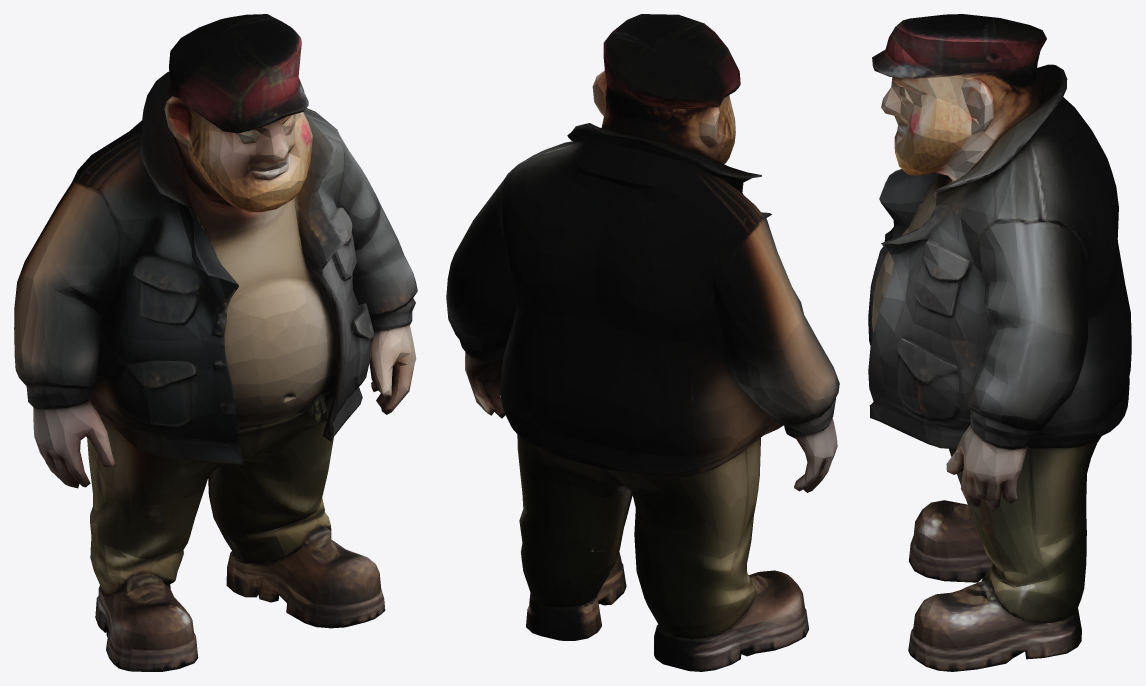
The model's file is rab-form.glb.
The picture shows the model from 3 angles, left to right: view 1: azimuth 30°, elevation 25°; view 2: azimuth 150°, elevation 25°; view 3: azimuth 270°, elevation 25°; orthographic projection. The views are drawn at different scales.
Parts seen in each view (by area): view 1: world; view 2: world; view 3: world.
Part boxes in pixels (bbox=[...]): world: bbox=[14, 14, 417, 671]; world: bbox=[446, 14, 839, 671]; world: bbox=[868, 14, 1131, 671].
Size of the model in its own units: 0.6839 by 0.9998 by 0.402.
1 material, 1 textured.
